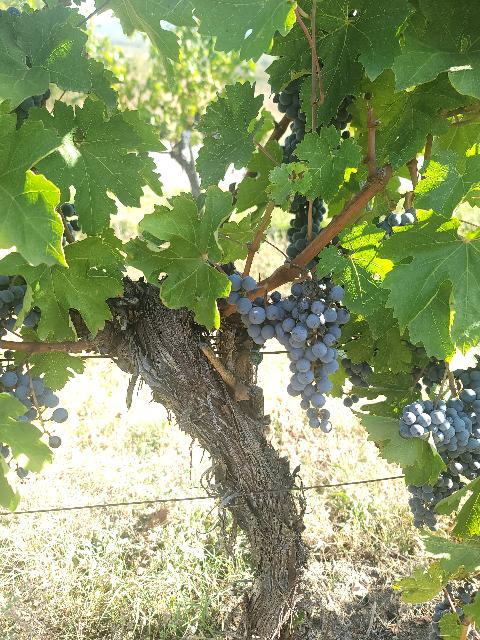grapes: (225, 272, 350, 432), (398, 388, 480, 479)
